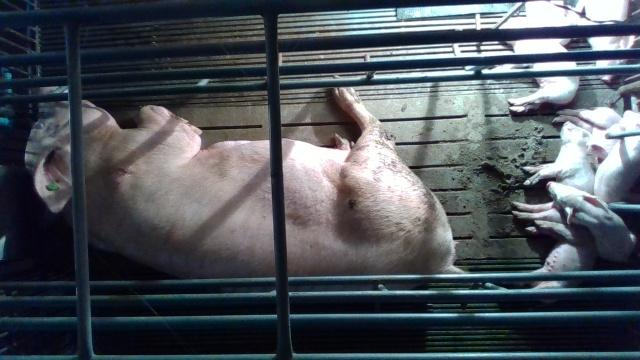piglet: (511, 120, 609, 223), (484, 19, 581, 115), (488, 221, 596, 304), (546, 181, 637, 263), (572, 0, 636, 84), (594, 113, 640, 203)
sow-sleep: (26, 86, 466, 292)
